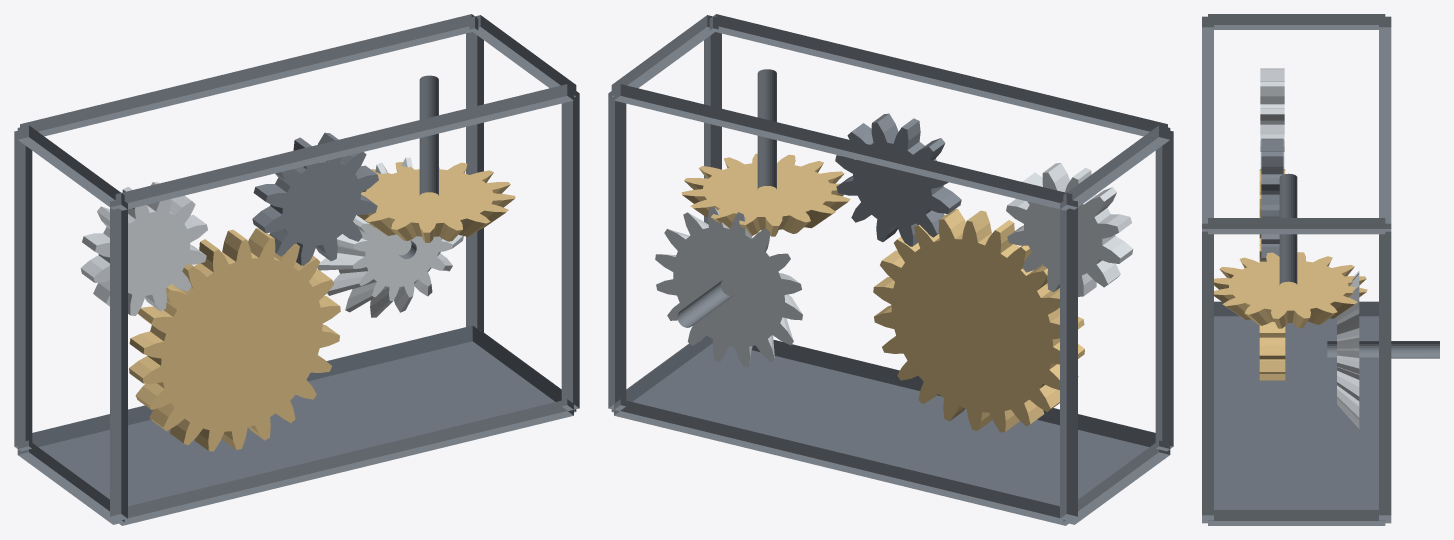
File: gearbox.glb
3 renders of one model, left to right at view 1: azimuth 30°, elevation 25°; view 2: azimuth 150°, elevation 25°; view 3: azimuth 270°, elevation 25°, orthographic. The views are drawn at different scales.
Parts seen in each view (by area): view 1: sump, spur_1, bar_h (×3), bar_v (×4), spur_2, spur_0, bevel_b, bevel_a, bar_d (×3), out_shaft; view 2: sump, spur_1, bar_h (×3), bar_v (×4), bevel_a, bevel_b, spur_2, spur_0, bar_d (×3), out_shaft, in_shaft; view 3: sump, bar_d (×3), bevel_b, bar_v (×2), bar_h (×2), bevel_a, spur_2, spur_0, spur_1, out_shaft, in_shaft.
Part boxes in pixels (x1,y1,x2,y2): sump: (32,325,561,506); spur_1: (129,228,340,451); bar_h (×3): (20,14,573,525); bar_v (×4): (14,21,579,521); spur_2: (252,132,378,265); spur_0: (80,182,207,315); bevel_b: (357,162,515,242); bevel_a: (317,157,463,317); bar_d (×3): (17,15,576,524); out_shaft: (419,75,438,195); sump: (626,335,1155,506); spur_1: (873,209,1084,432); bar_h (×3): (614,14,1167,525); bar_v (×4): (608,21,1173,521); bevel_a: (655,207,802,367); bevel_b: (681,153,850,236); spur_2: (835,113,961,246); spur_0: (1006,163,1133,296); bar_d (×3): (611,15,1170,524); out_shaft: (757,69,776,189); in_shaft: (677,280,733,327); sump: (1214,301,1378,509); bar_d (×3): (1208,14,1385,525); bevel_b: (1214,252,1367,328); bar_v (×2): (1202,223,1391,520); bar_h (×2): (1202,16,1391,231); bevel_a: (1337,271,1359,428); spur_2: (1261,138,1283,260); spur_0: (1260,68,1284,169); spur_1: (1259,169,1285,380); out_shaft: (1279,173,1297,284); in_shaft: (1327,341,1439,358).
Size of the model in its own units: 30.75 by 20.75 by 14.78.
